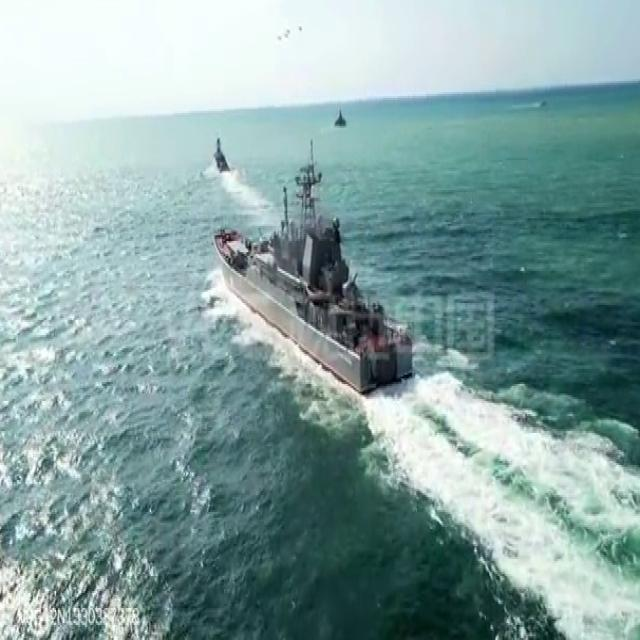navalvessels: (213, 167, 414, 391), (210, 134, 230, 174), (335, 102, 346, 130)
